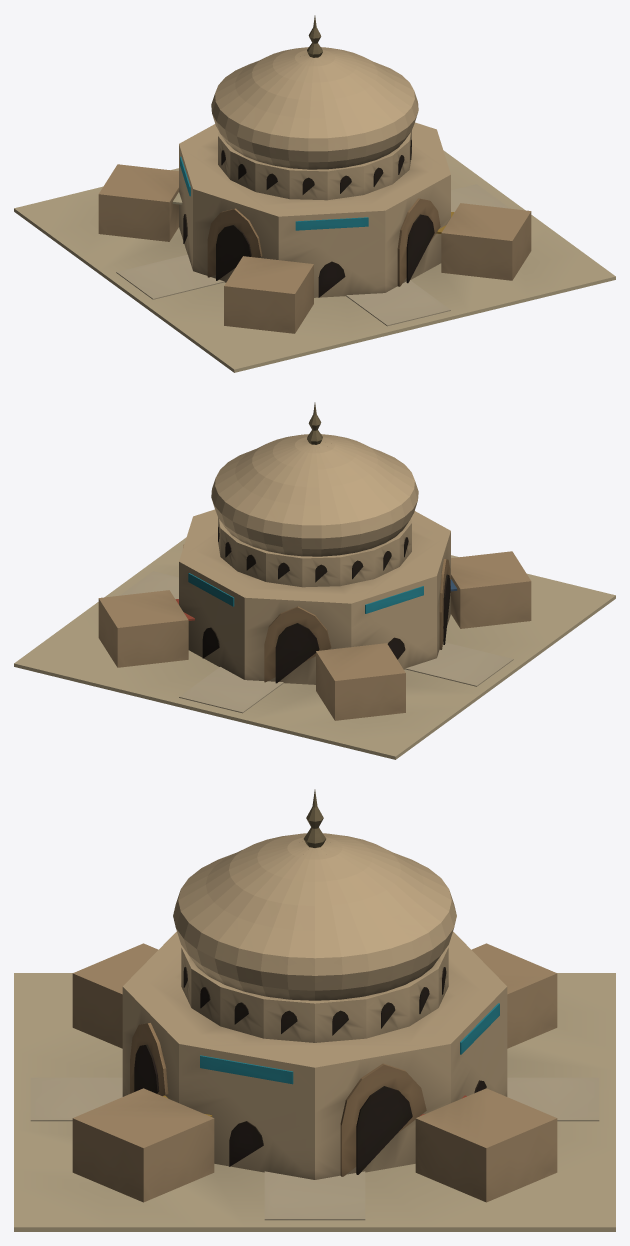
The model's file is chorsu.glb.
The picture shows the model from 3 angles, top to bottom: view 1: azimuth 30°, elevation 25°; view 2: azimuth 150°, elevation 25°; view 3: azimuth 270°, elevation 25°; orthographic projection. The views are drawn at different scales.
Visible parts, largest first — view 1: p0_dome; view 2: p0_dome; view 3: p0_dome.
Part boxes in pixels (x1,y1,x2,y2): p0_dome: (14,15,615,372); p0_dome: (14,402,615,759); p0_dome: (14,789,615,1231).
Size of the model in its own units: 36 by 20.89 by 36.
